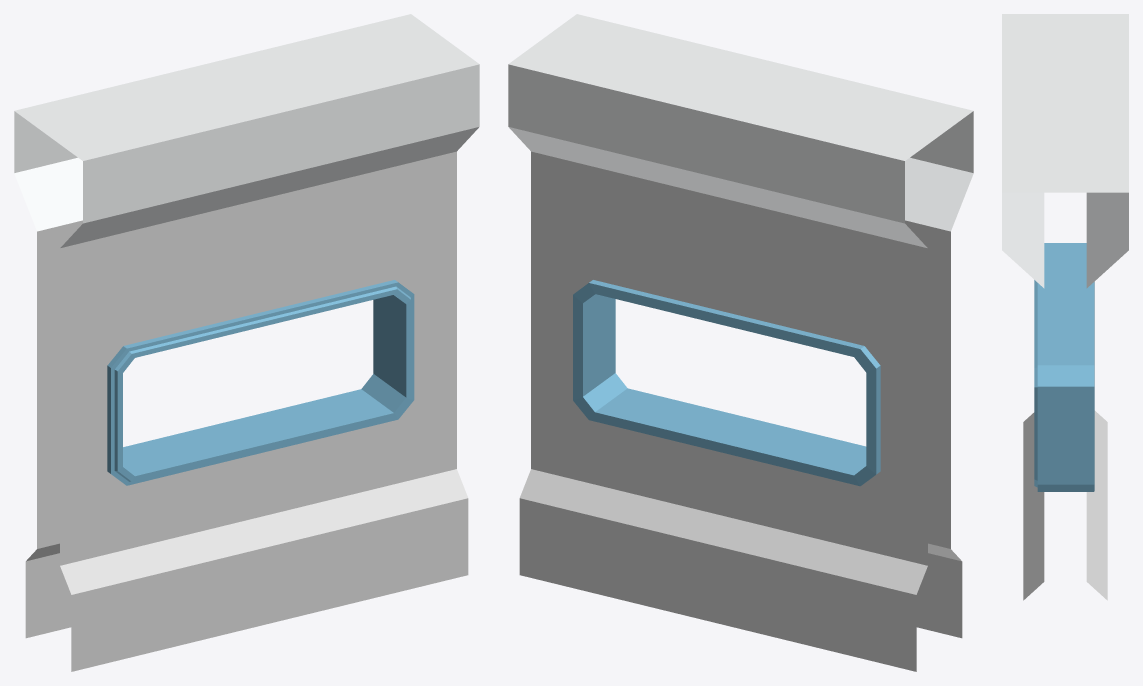
Rendered from wall_window_a.fbx.
The picture shows the model from 3 angles, left to right: view 1: azimuth 30°, elevation 25°; view 2: azimuth 150°, elevation 25°; view 3: azimuth 270°, elevation 25°; orthographic projection. The views are drawn at different scales.
Visible parts, largest first — view 1: wall_window_a; view 2: wall_window_a; view 3: wall_window_a.
Boxes of the visible parts, x1,y1,x2,y2 form: wall_window_a: (14, 14, 479, 671); wall_window_a: (508, 14, 973, 671); wall_window_a: (1002, 14, 1128, 600).
Size of the model in its own units: 2 by 2.5 by 0.6.
